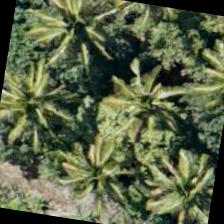Kelapa_Sawit: (68, 119, 172, 222), (82, 54, 185, 157), (0, 63, 101, 167), (133, 140, 220, 223), (8, 0, 97, 66)
